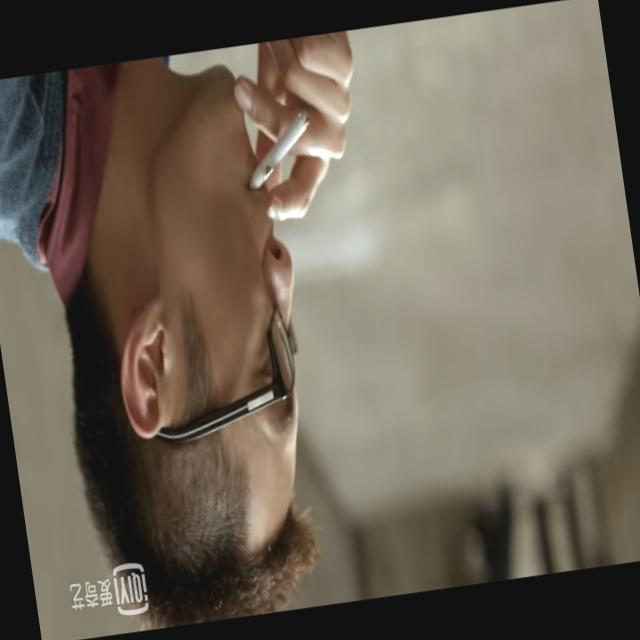cigarette: (240, 111, 318, 192)
